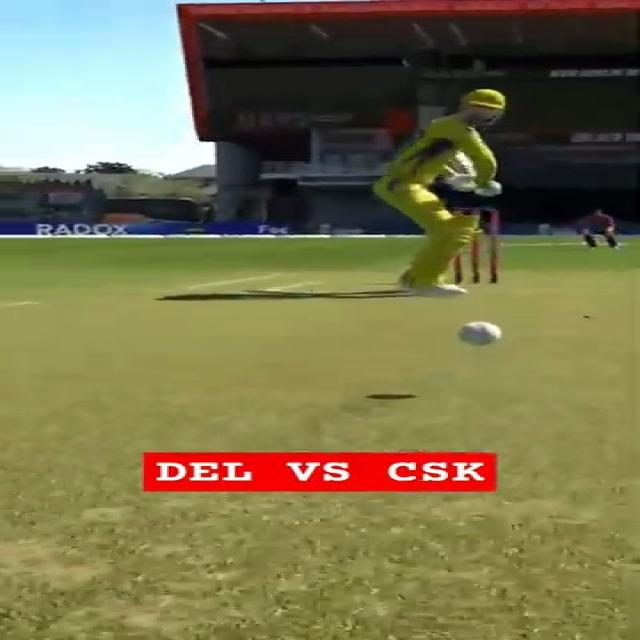ball: (455, 320, 503, 346)
